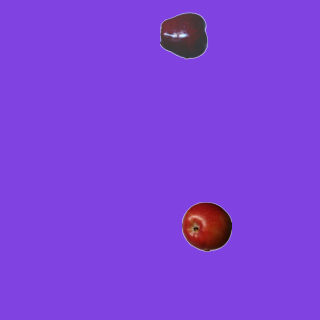Apple Braeburn: (181, 201, 231, 251)
Apple Red Delicious: (159, 10, 209, 60)
